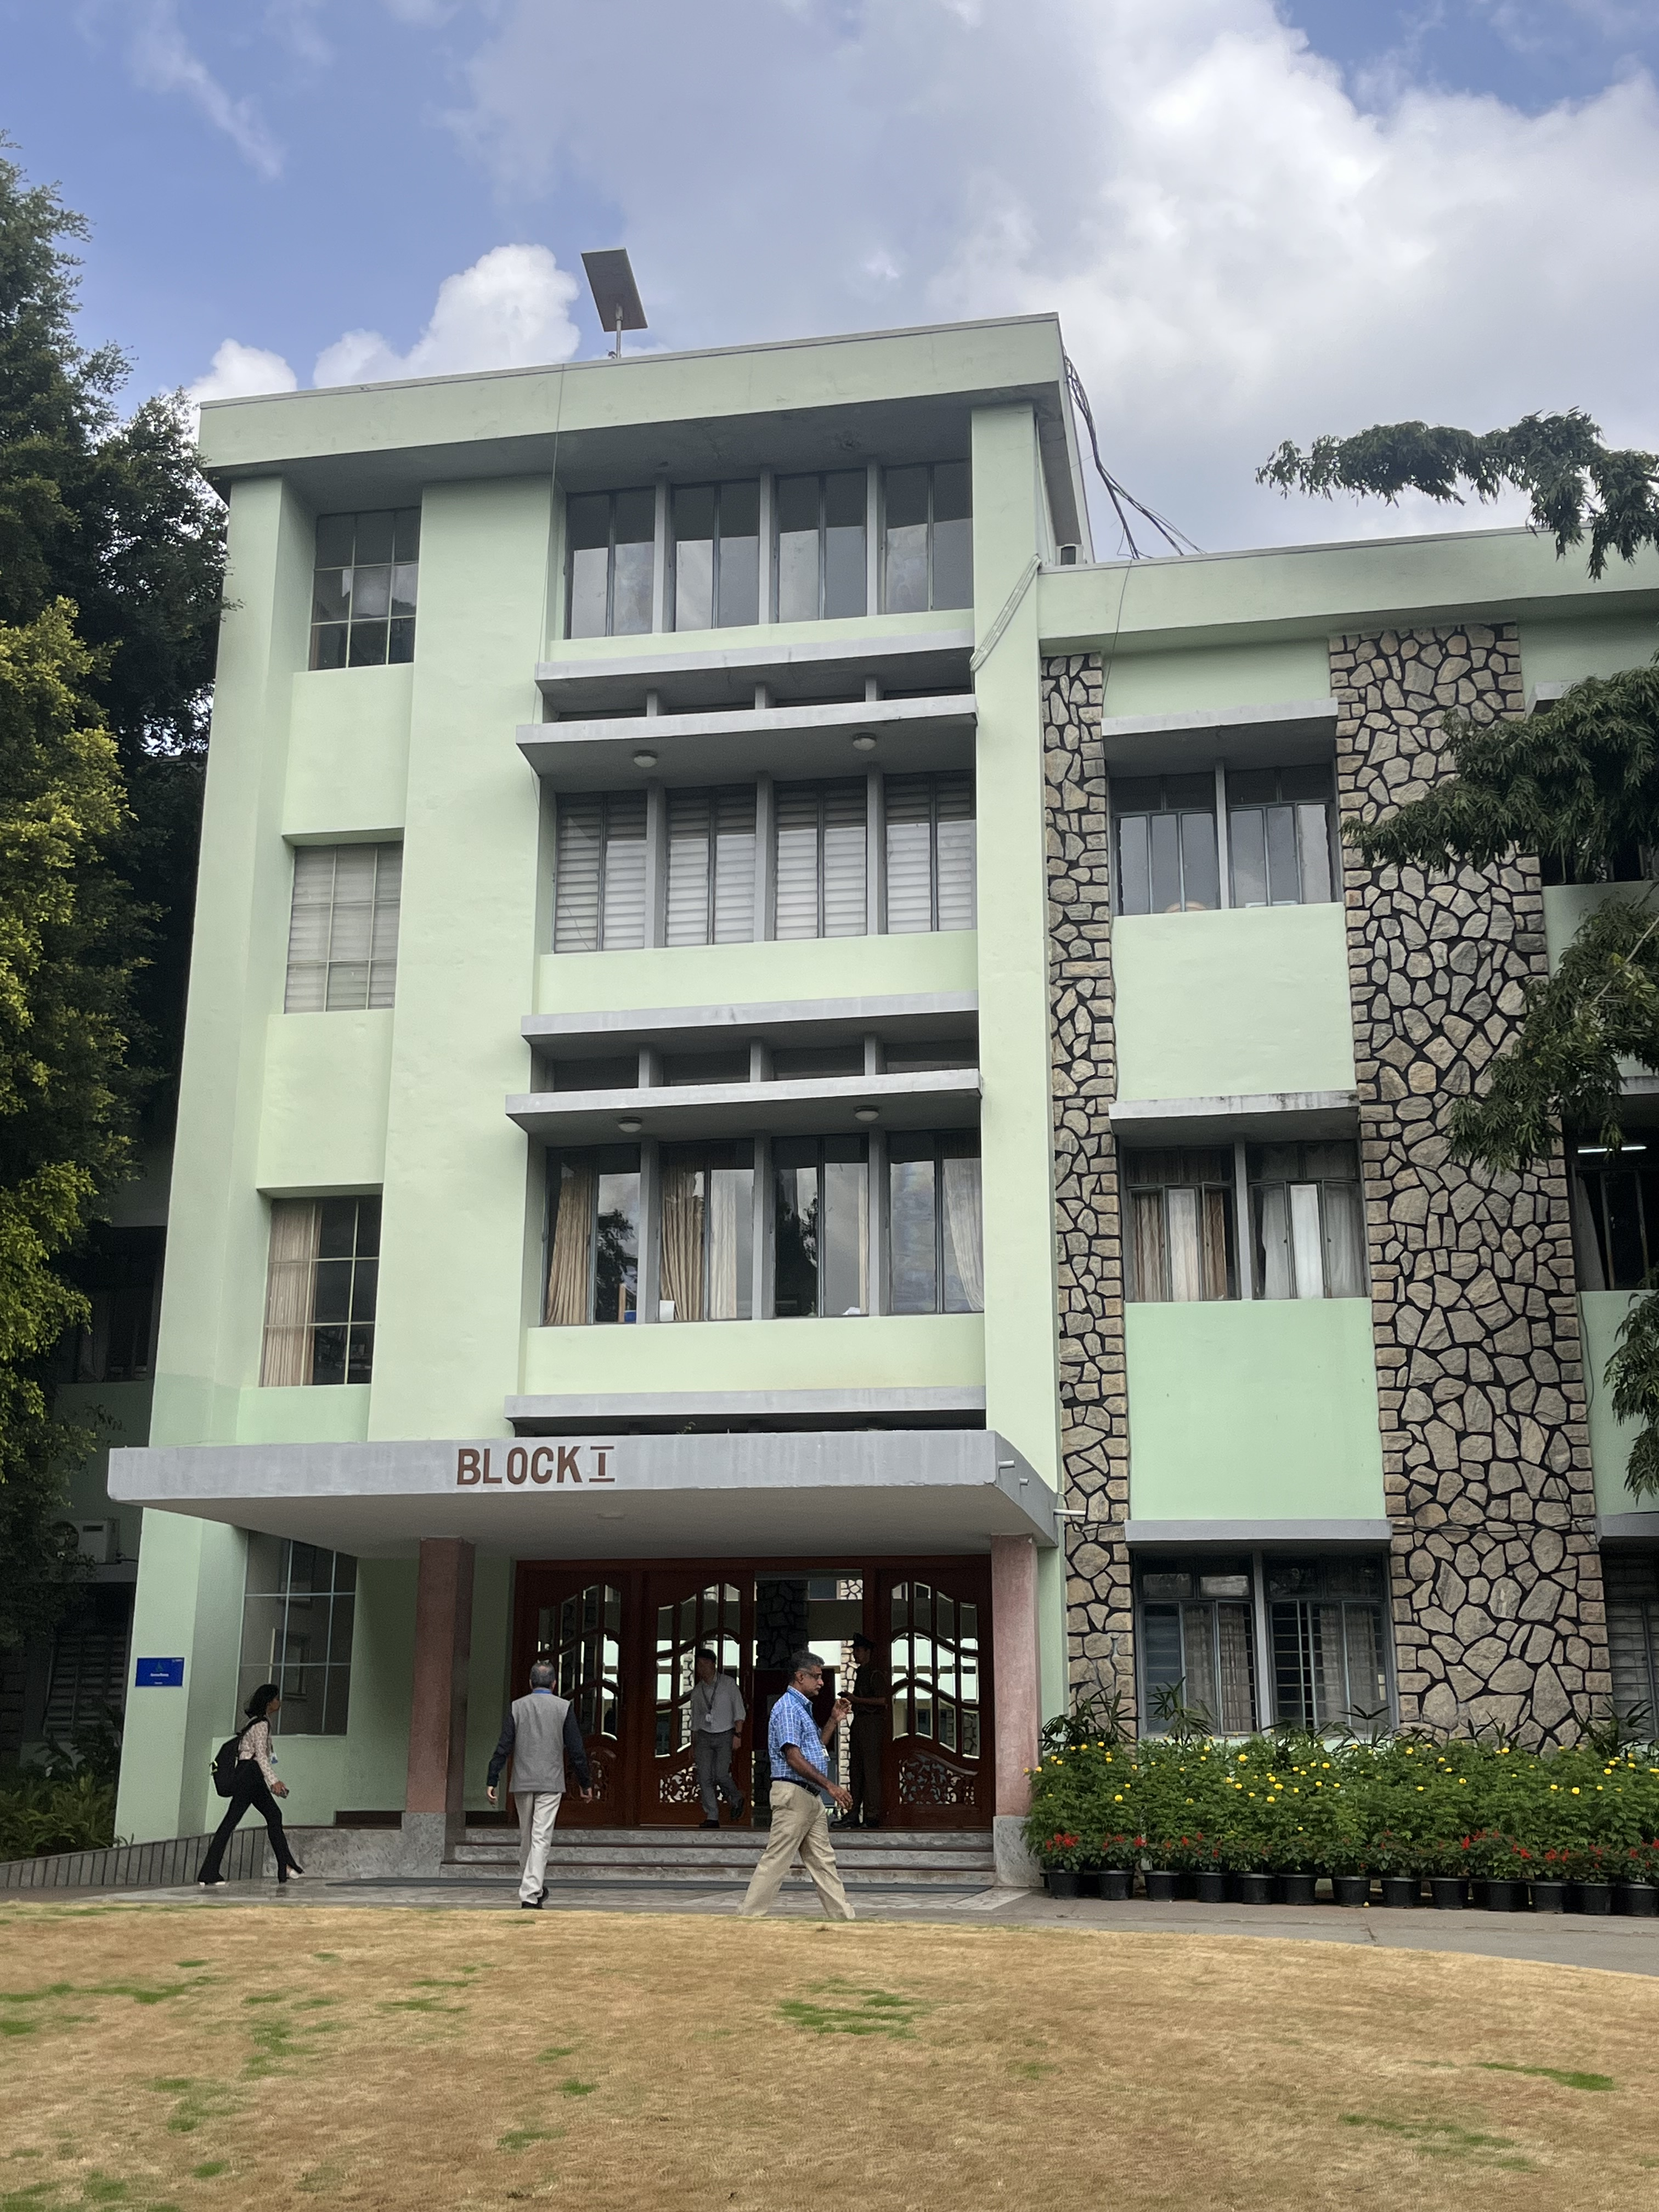Block 1: (150, 366, 1589, 1754)
